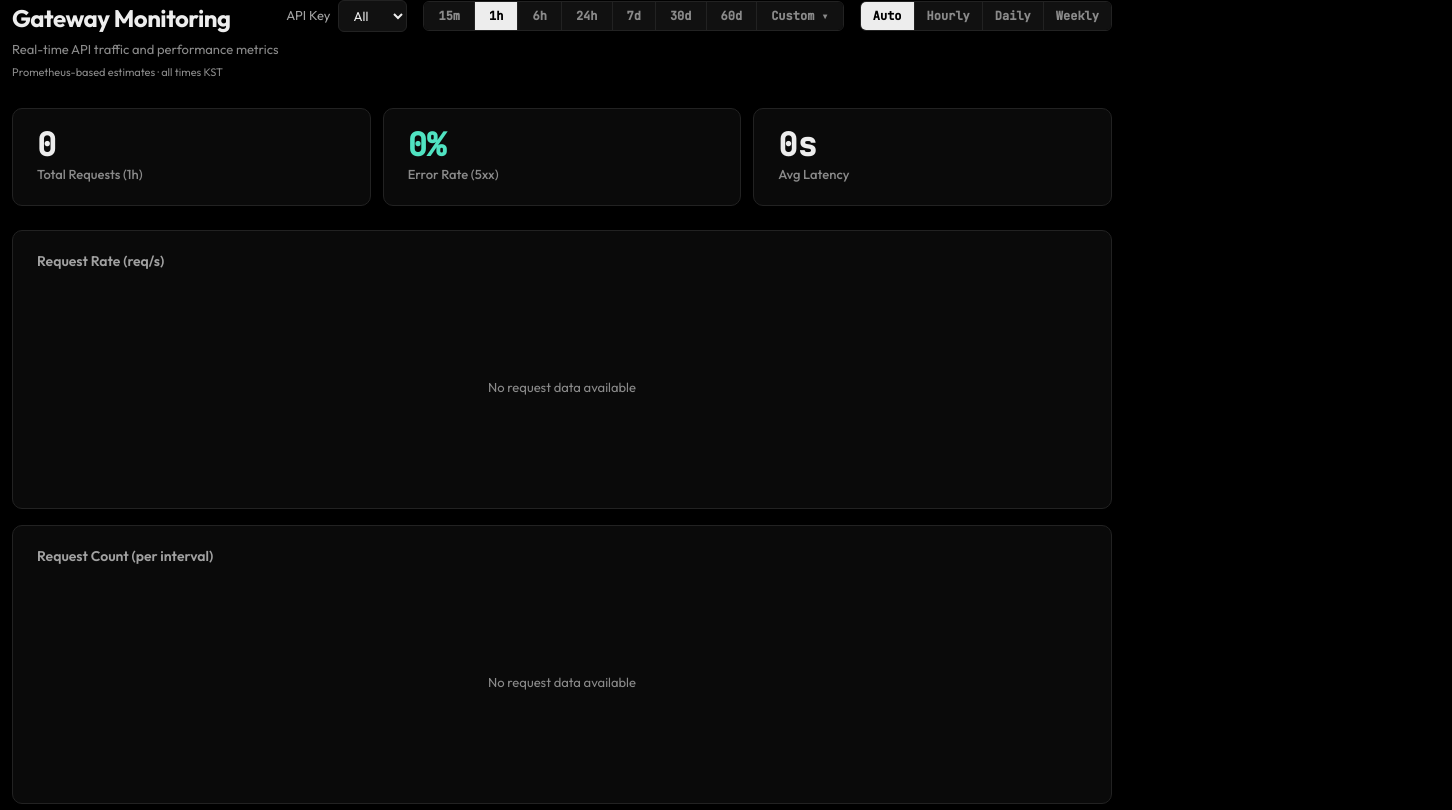
GatewayMonitoring › explains the hidden API key comparison while a key filter is active
Select "alice" in the dropdown labelled "API Key" at (373, 16), box [338,0,408,32]
(page scrolled)
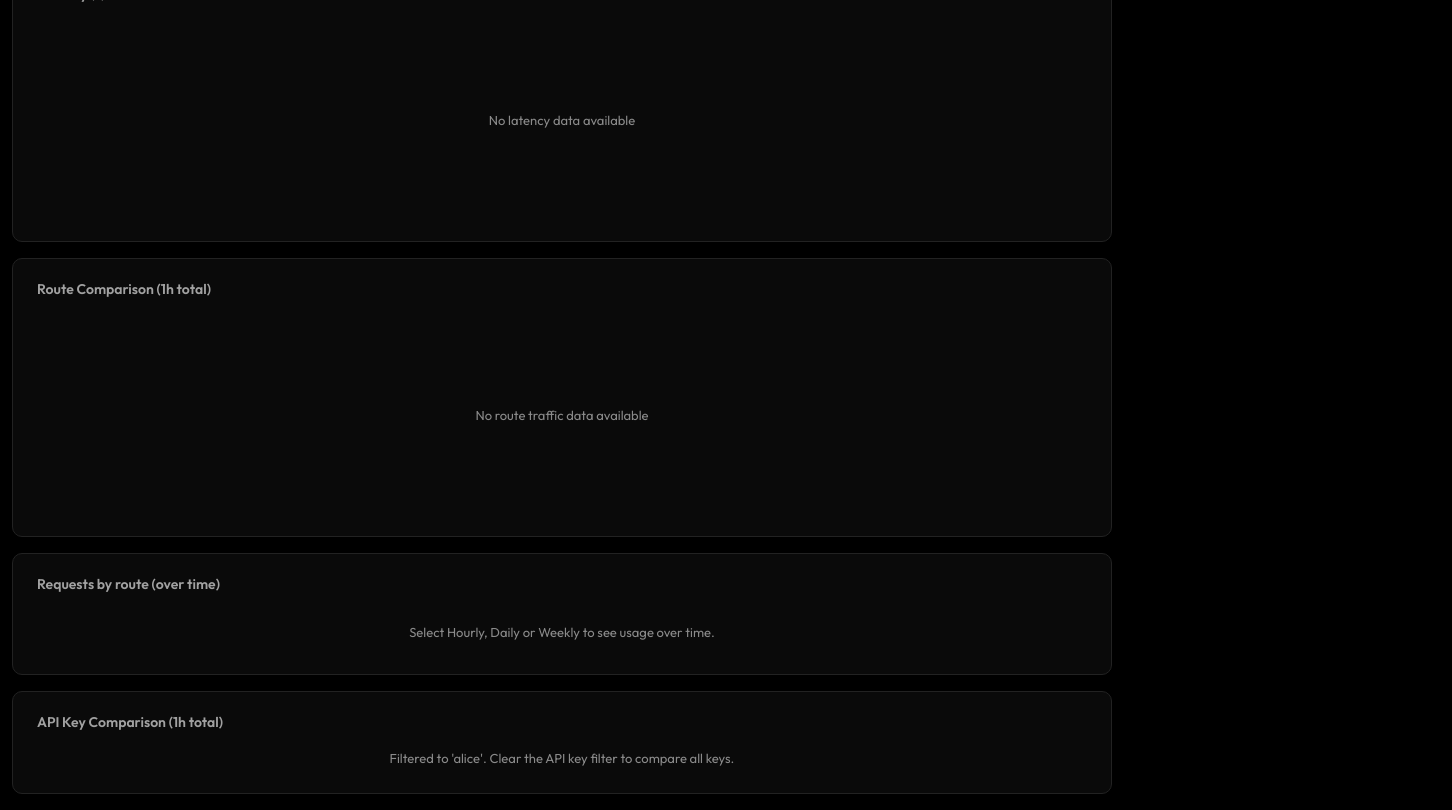
Expected: the text "Filtered to 'alice'. Clear the API key filter to compare all keys." is shown, [390,750,734,766]
